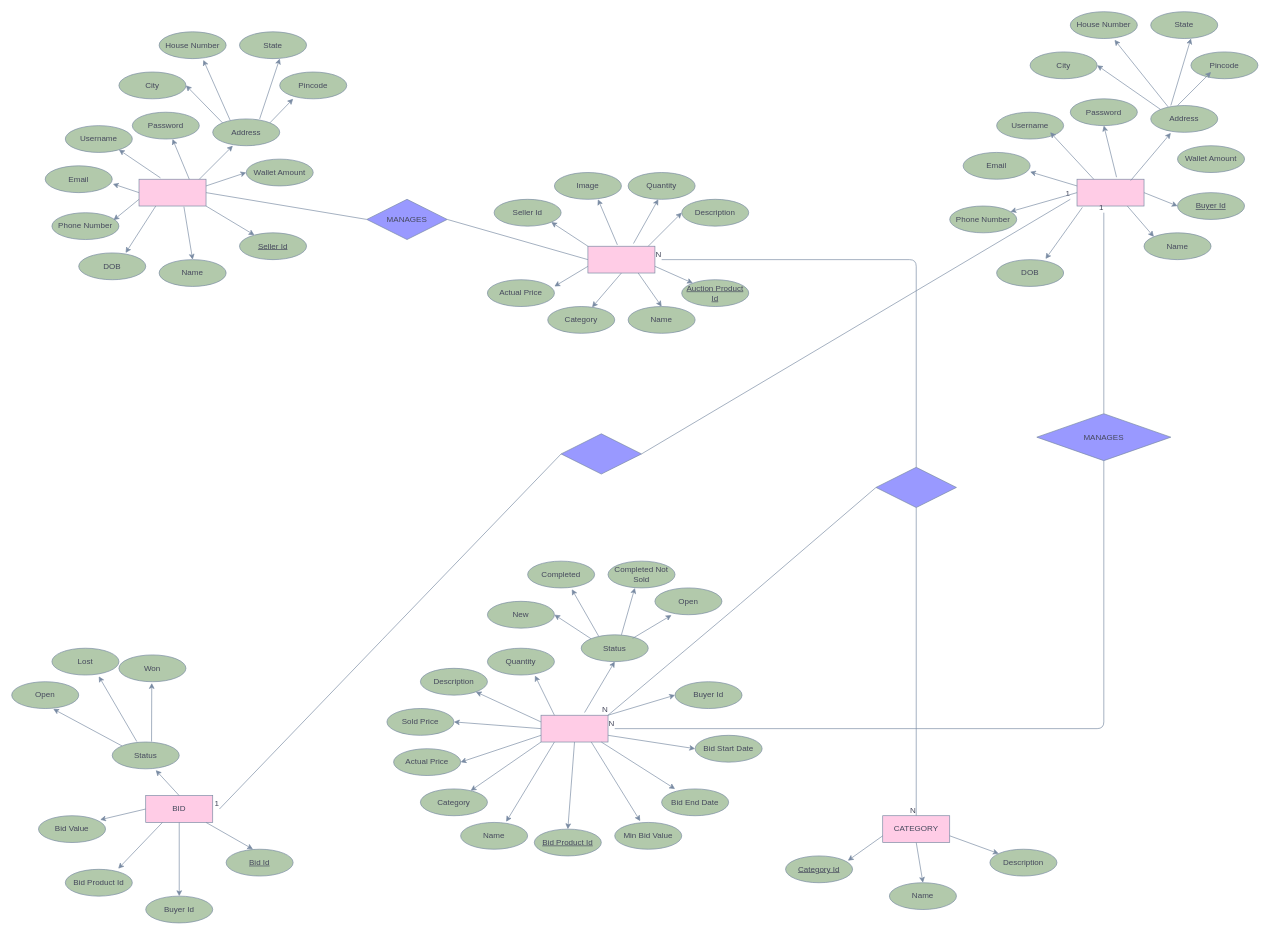
Some shapes in this 1270 by 935 pixel diagram are drawn without their labels. Each missing label, with the centre of its shape:
"AUCTION PRODUCT" goes at [621,259].
"BID PRODUCT" goes at [574,728].
"BUYER" goes at [1110,192].
"HAS" goes at [915,487].
"PLACES" goes at [601,453].
"SELLER" goes at [172,192].
